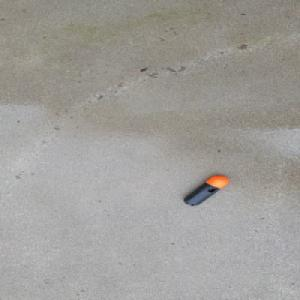PlasticPart: (182, 174, 230, 206)
